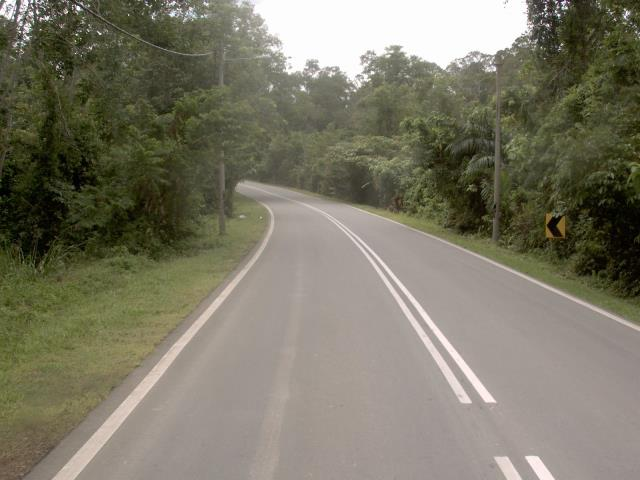traffic_sign: (539, 208, 571, 245)
